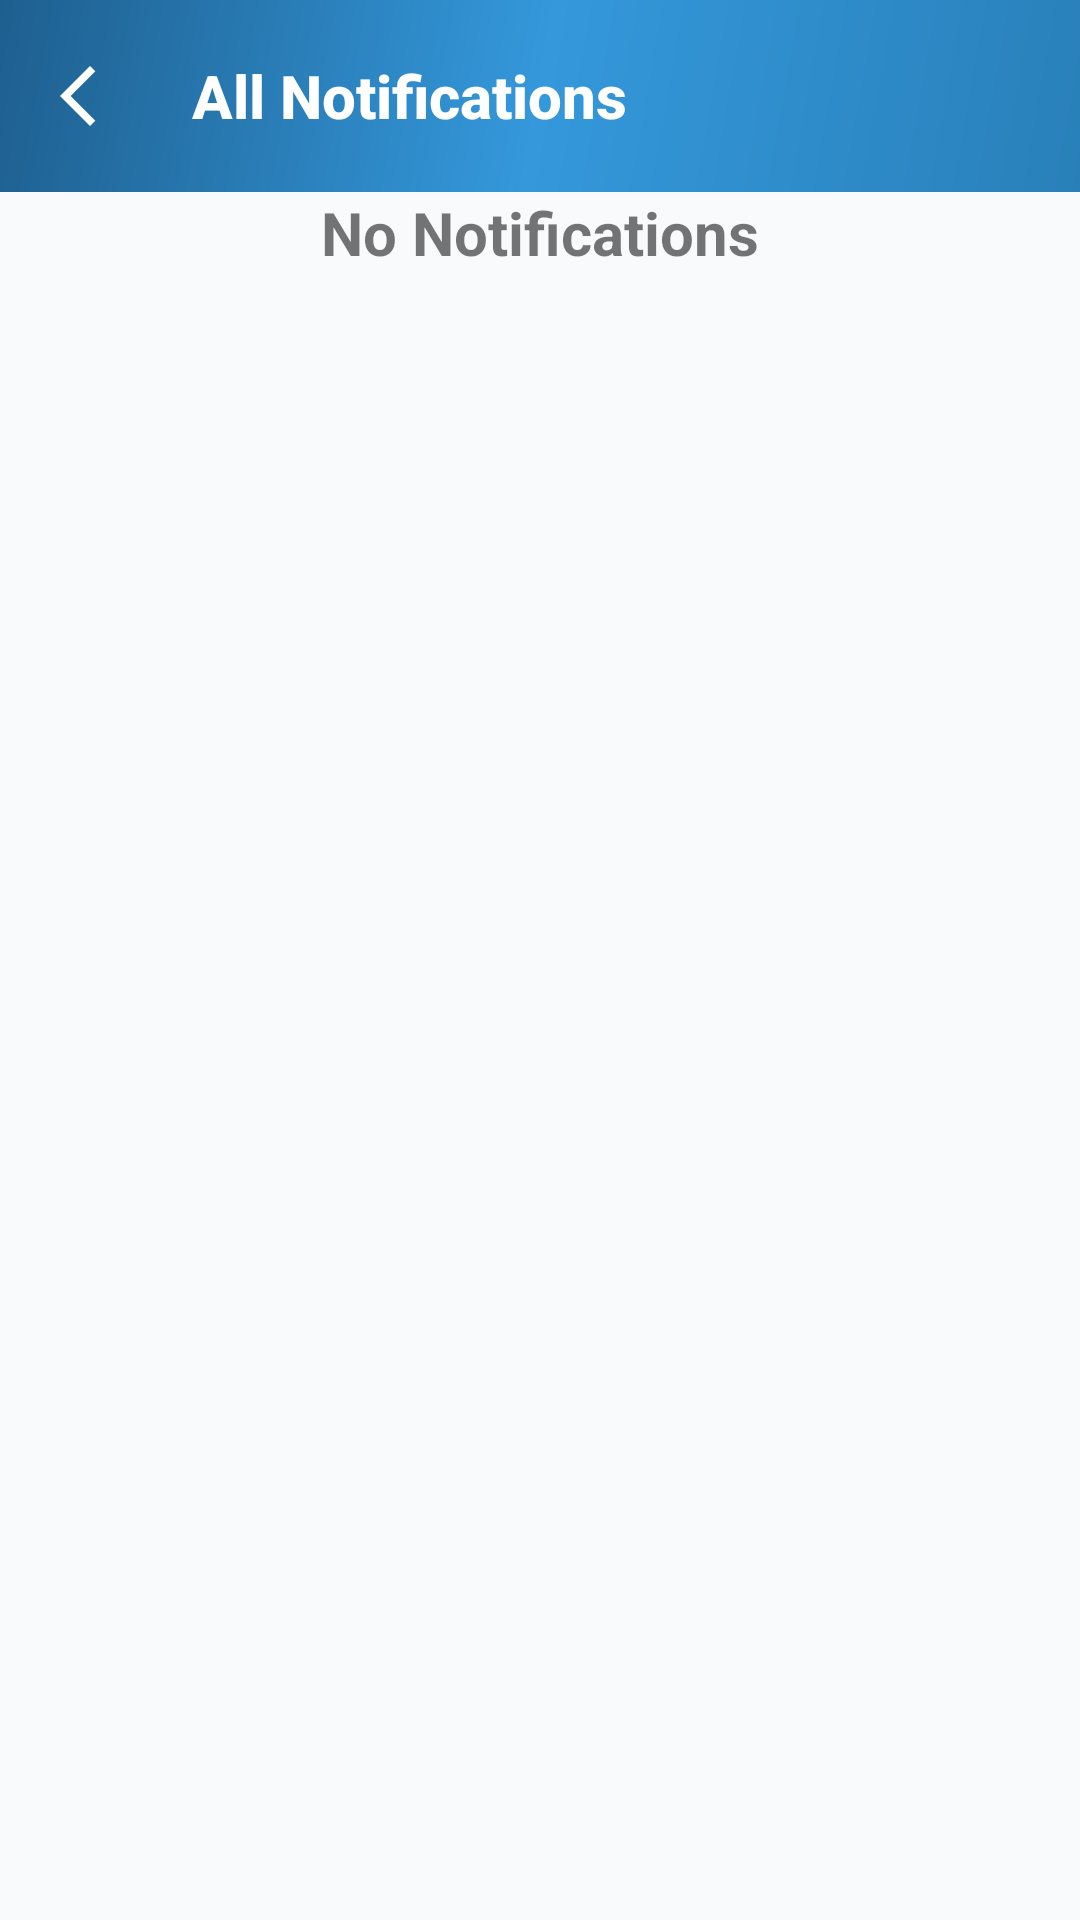

Screen size 1080*1920. Icon name, then its box in pixels as (x1, y1, x2, y2):
Back: (60, 66, 95, 126)
